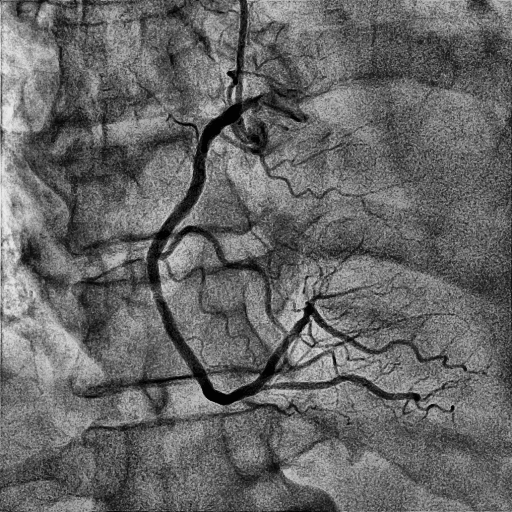pborca: (256, 304, 487, 385)
pda: (262, 373, 454, 412)
rca: (147, 103, 264, 405)
